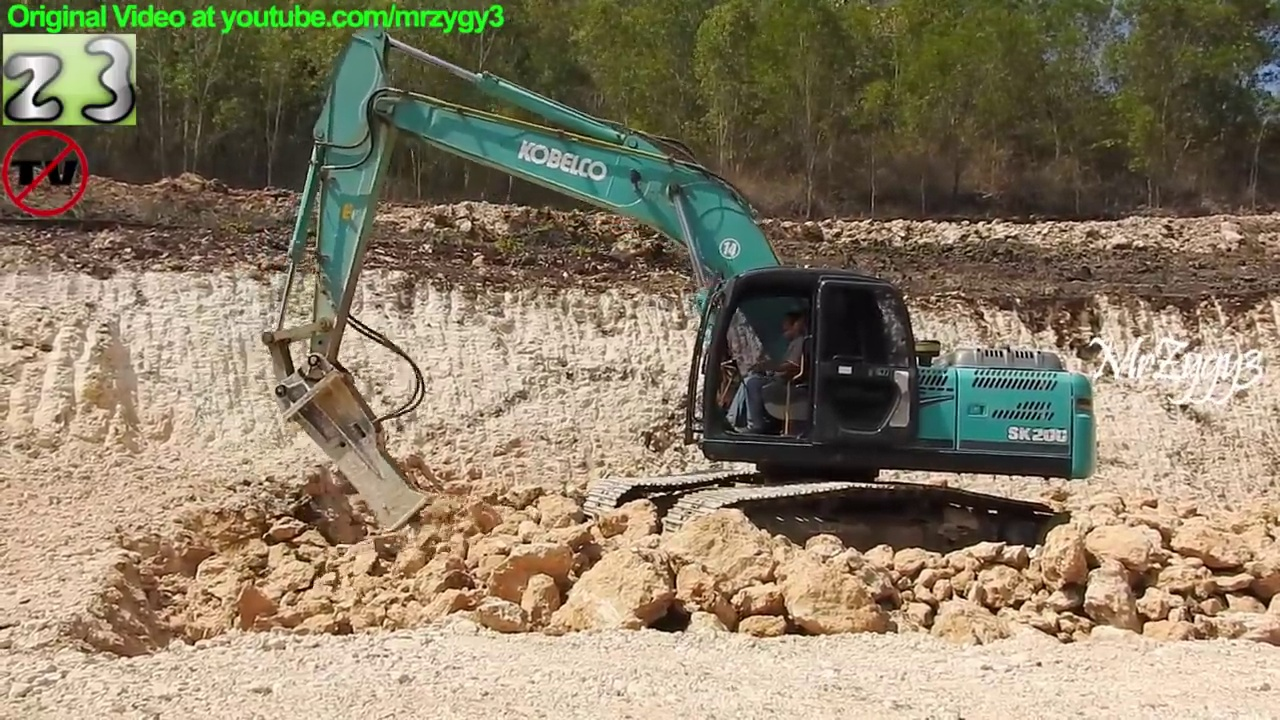excavator breaker: (257, 26, 1102, 572)
